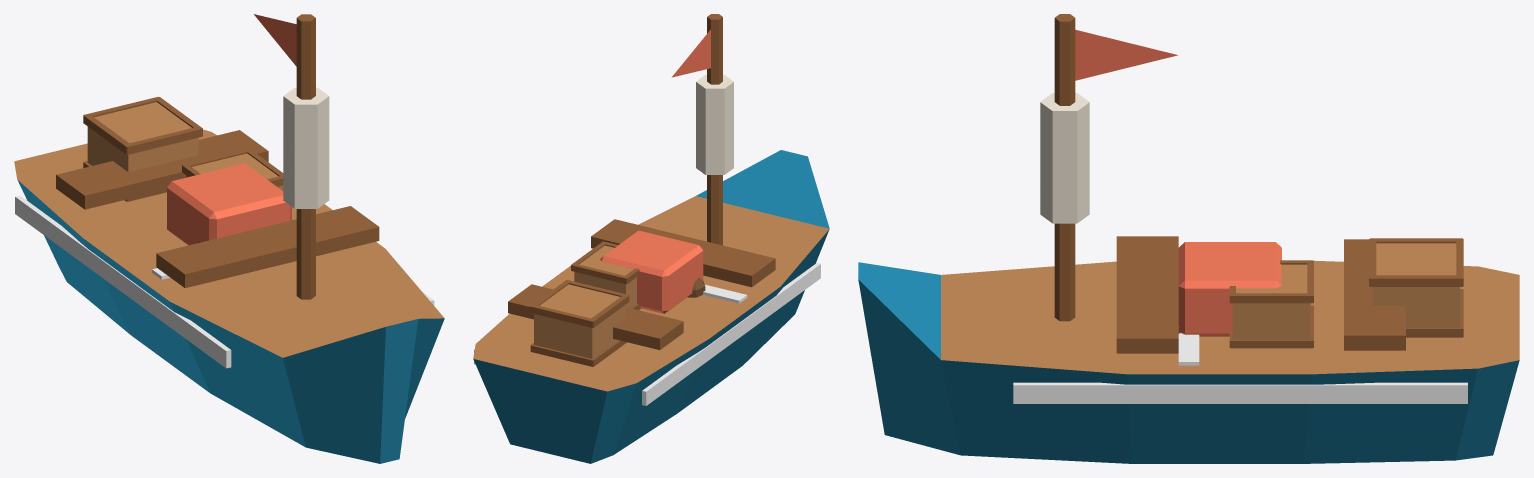
File: prop_delivery_boat.glb
The picture shows the model from 3 angles, left to right: view 1: azimuth 30°, elevation 25°; view 2: azimuth 150°, elevation 25°; view 3: azimuth 270°, elevation 25°; orthographic projection. The views are drawn at different scales.
Parts seen in each view (by area): view 1: prop_delivery_boat; view 2: prop_delivery_boat; view 3: prop_delivery_boat.
Part boxes in pixels (left/top/right/bottom): prop_delivery_boat: left=14, top=14, right=444, bottom=463; prop_delivery_boat: left=473, top=14, right=829, bottom=463; prop_delivery_boat: left=858, top=14, right=1519, bottom=463.
Bounding box in the file's own units: 1.3 × 2.2 × 3.2.
